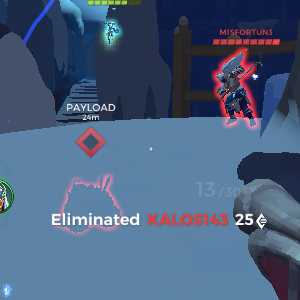model: (209, 49, 260, 134)
